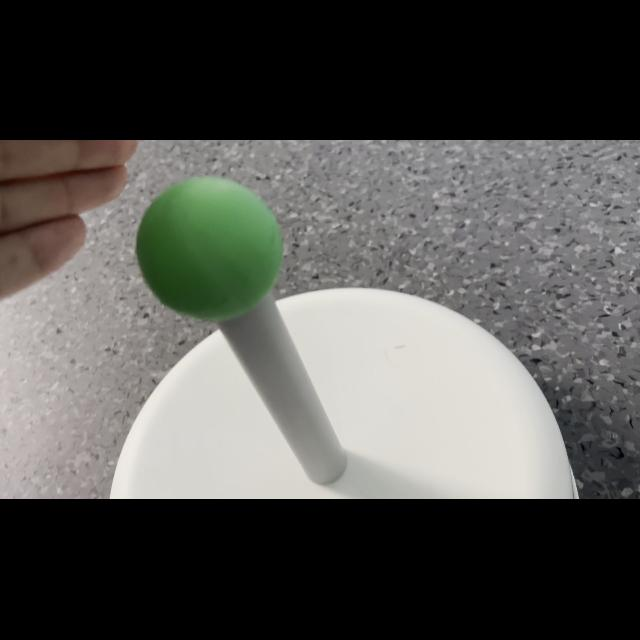objects: (132, 168, 286, 324)
